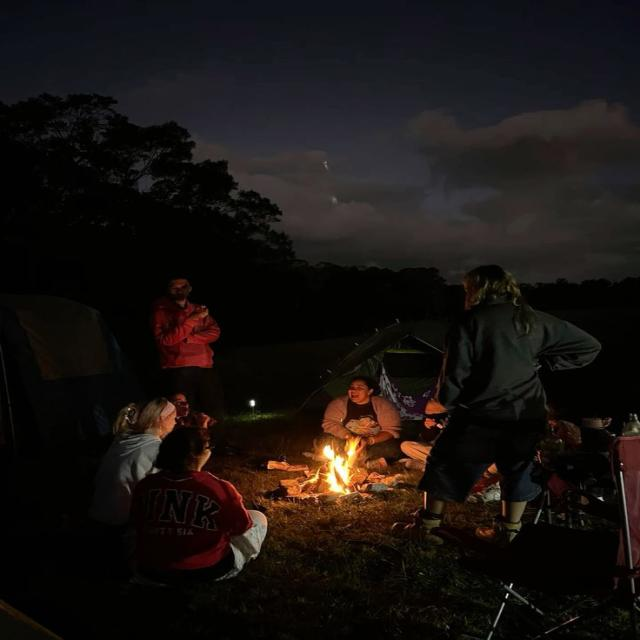fire: (323, 436, 360, 494)
